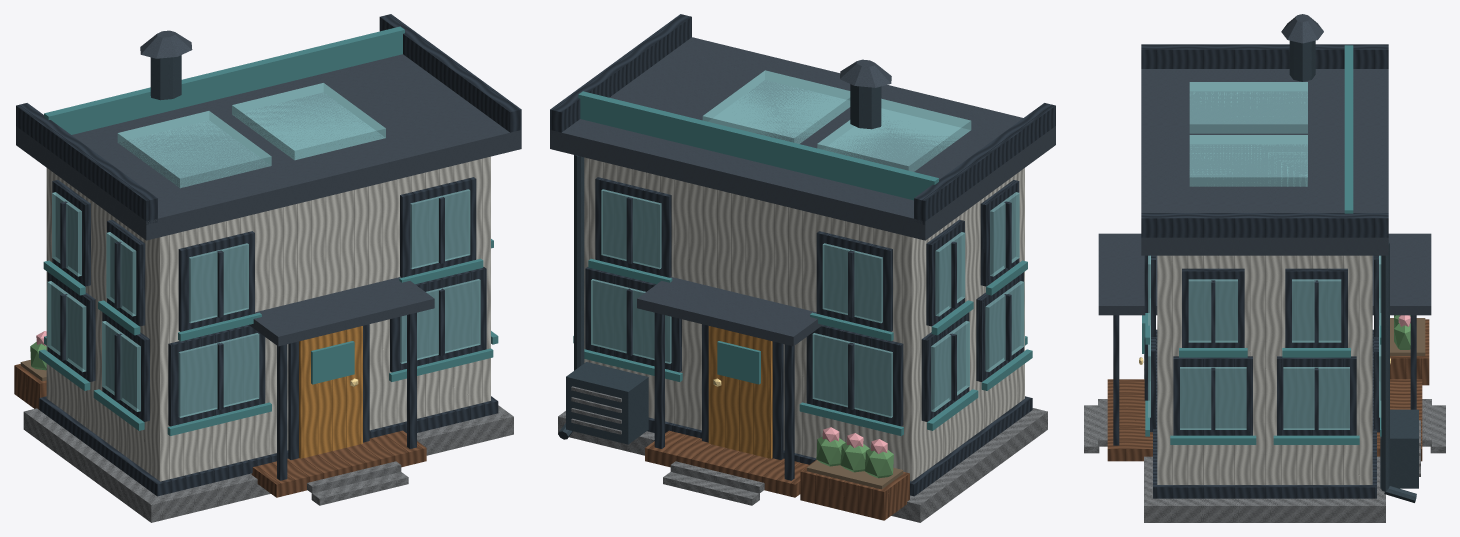
File: house_lv2.glb
The picture shows the model from 3 angles, left to right: view 1: azimuth 30°, elevation 25°; view 2: azimuth 150°, elevation 25°; view 3: azimuth 270°, elevation 25°; orthographic projection. The views are drawn at different scales.
Visible parts, largest first — view 1: walls, flat_roof, roof_terrace, foundation, front_window_frame, solar_panel, solar_panel.001, front_porch_canopy, front_door, front_window_frame.002, front_window_frame.003, front_window_frame.001 (+31 smaller); view 2: walls, flat_roof, roof_terrace, back_window_frame, solar_panel.001, back_porch_canopy, back_door, solar_panel, back_window_frame.003, back_window_frame.002, back_window_frame.001, foundation (+37 smaller); view 3: flat_roof, walls, foundation, parapet.001, solar_panel, solar_panel.001, right_window_frame, right_window_frame.001, parapet, right_window_frame.002, right_window_frame.003, floor_trim (+27 smaller).
Part boxes in pixels (x1=…): walls: x1=46, y1=156, x2=490, y2=481; flat_roof: x1=16, y1=54, x2=521, y2=240; roof_terrace: x1=44, y1=26, x2=404, y2=134; foundation: x1=23, y1=405, x2=513, y2=522; front_window_frame: x1=168, y1=325, x2=265, y2=426; solar_panel: x1=117, y1=111, x2=271, y2=188; solar_panel.001: x1=232, y1=83, x2=385, y2=160; front_porch_canopy: x1=249, y1=277, x2=434, y2=346; front_door: x1=299, y1=326, x2=362, y2=458; front_window_frame.002: x1=178, y1=231, x2=254, y2=331; front_window_frame.003: x1=400, y1=177, x2=476, y2=277; front_window_frame.001: x1=390, y1=267, x2=486, y2=372; walls: x1=584, y1=157, x2=1024, y2=481; flat_roof: x1=550, y1=37, x2=1055, y2=240; roof_terrace: x1=578, y1=91, x2=938, y2=200; back_window_frame: x1=806, y1=325, x2=903, y2=426; solar_panel.001: x1=702, y1=70, x2=850, y2=143; back_porch_canopy: x1=637, y1=277, x2=822, y2=346; back_door: x1=708, y1=326, x2=772, y2=458; solar_panel: x1=817, y1=98, x2=971, y2=171; back_window_frame.003: x1=595, y1=177, x2=671, y2=277; back_window_frame.002: x1=816, y1=231, x2=892, y2=331; back_window_frame.001: x1=585, y1=267, x2=681, y2=372; foundation: x1=558, y1=408, x2=1047, y2=522; flat_roof: x1=1141, y1=69, x2=1388, y2=255; walls: x1=1157, y1=255, x2=1372, y2=484; foundation: x1=1144, y1=354, x2=1385, y2=522; parapet.001: x1=1141, y1=213, x2=1388, y2=237; solar_panel: x1=1189, y1=82, x2=1307, y2=133; solar_panel.001: x1=1189, y1=135, x2=1307, y2=186; right_window_frame: x1=1173, y1=356, x2=1252, y2=435; right_window_frame.001: x1=1277, y1=356, x2=1356, y2=435; parapet: x1=1141, y1=44, x2=1388, y2=68; right_window_frame.002: x1=1182, y1=268, x2=1244, y2=347; right_window_frame.003: x1=1285, y1=268, x2=1347, y2=347; floor_trim: x1=1153, y1=329, x2=1376, y2=498.
Size of the model in its own units: 3.3 by 3.39 by 2.9.
13 materials, 7 textured.
